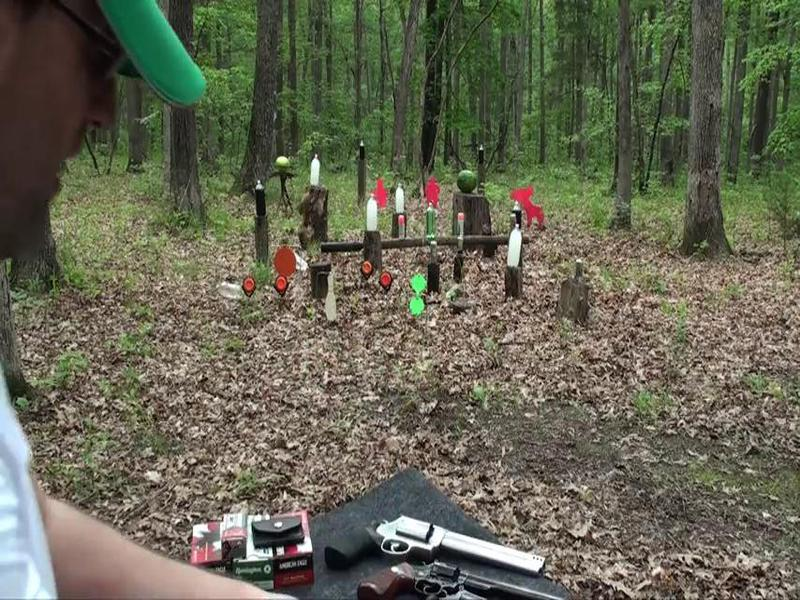Revolver: (295, 489, 566, 592)
